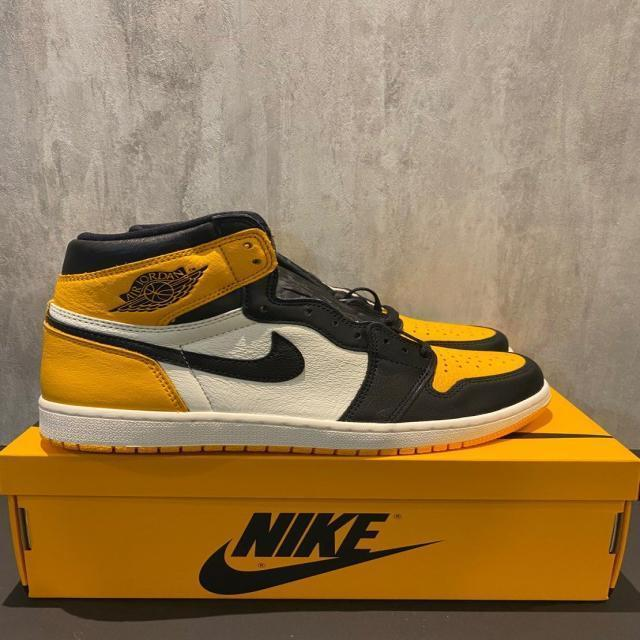nike original air force: (37, 212, 556, 456), (154, 212, 524, 357)
